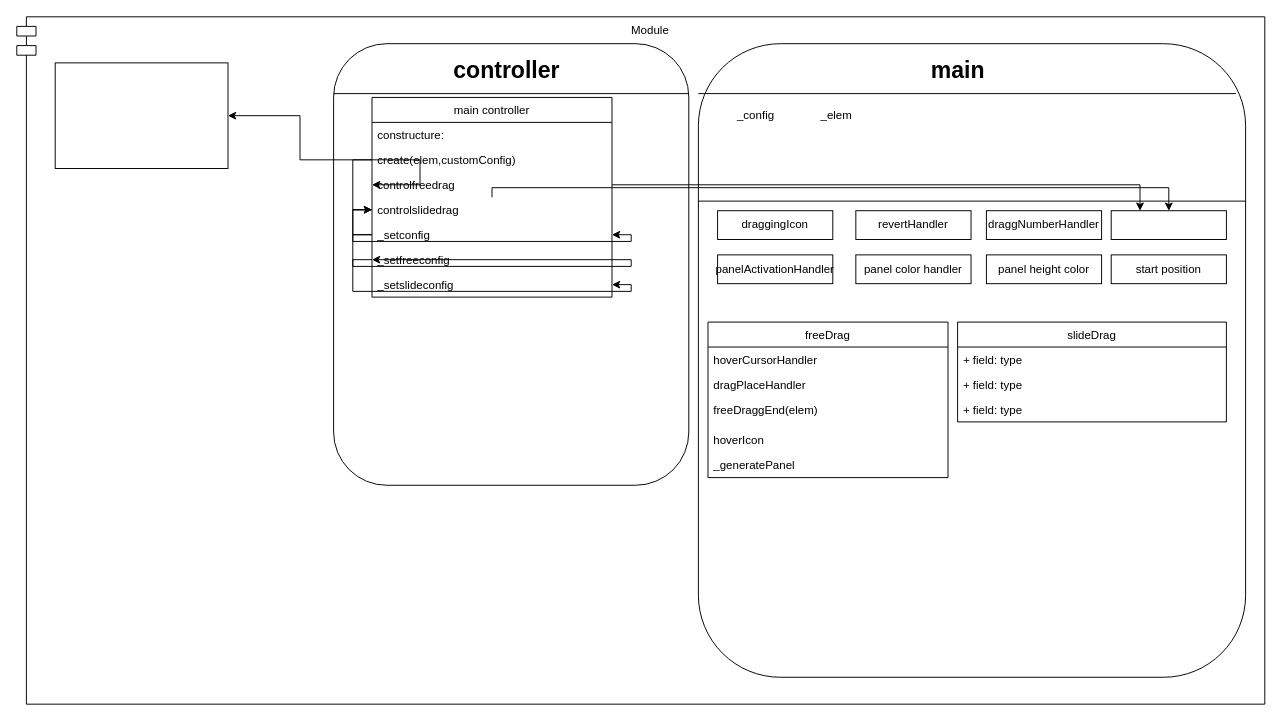
This 1282x721 diagram has some shape labels left out. The centre of each missing label's shape, as x and y in pixels:
config: the point at 141,115
initElemStyle: the point at 1168,225
